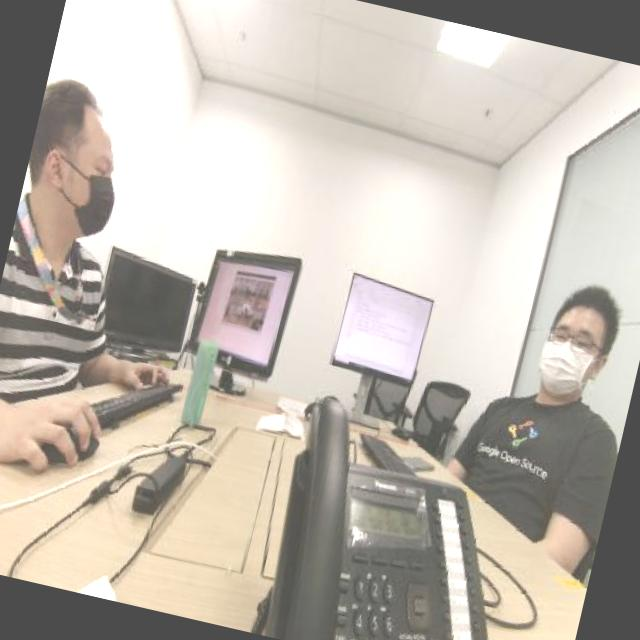Person: (450, 232, 640, 547), (0, 64, 157, 387)
